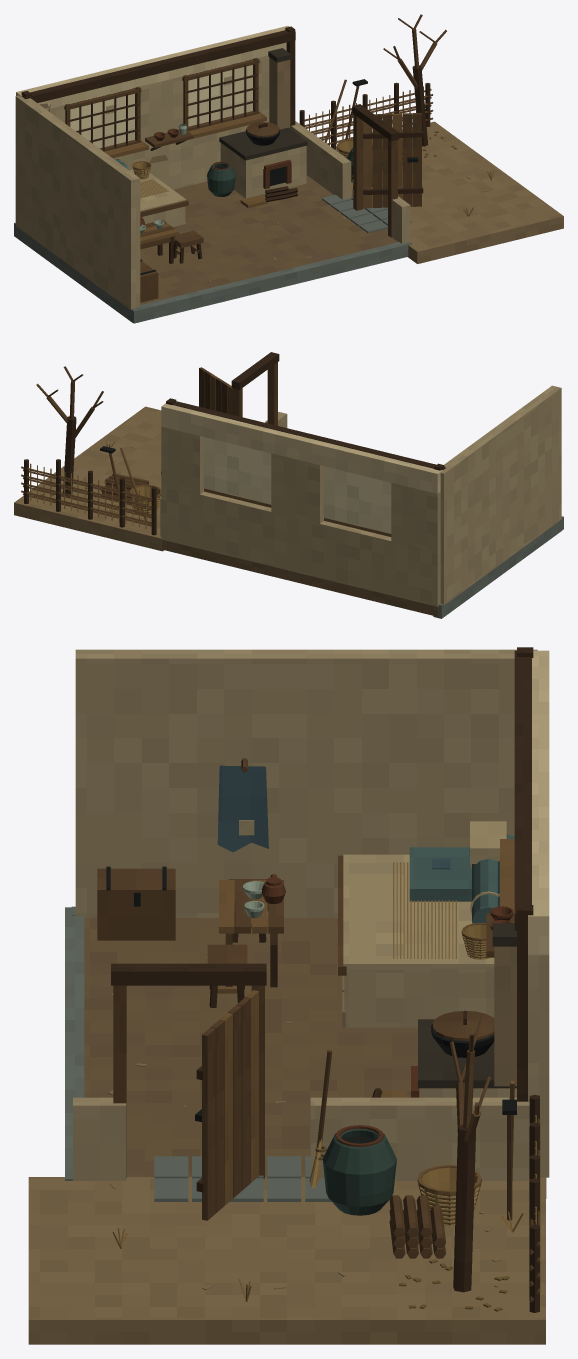
File: gouer-home.glb
3 views of the same model, one above another, from view 1: azimuth 30°, elevation 25°; view 2: azimuth 150°, elevation 25°; view 3: azimuth 270°, elevation 25° (orthographic). The views are drawn at different scales.
Parts seen in each view (by area): view 1: West_wall, Packed_earth_floor, Courtyard_ground, Front_foundation, Rear_tie_beam, Rear_wall_top, Rear_wall_sill, Paper_window.001, Earthen_stove, Rear_wall_pier.001, East_cutaway_rear, Paper_window (+24 smaller); view 2: West_wall, Rear_wall_sill, Courtyard_ground, Rear_wall_top, Paper_window.001, Paper_window, Rear_wall_pier.001, Rear_wall_pier, Packed_earth_floor, Rear_wall_pier.002, West_foundation, Rear_tie_beam (+3 smaller); view 3: West_wall, Courtyard_ground, Packed_earth_floor, East_cutaway_rear, Kang_top, Earth_kang, Rear_wall_top, Old_storage_chest, Storage_jar.001, Rear_tie_beam, East_cutaway_front, Front_foundation (+26 smaller).
Boxes of the visible parts, x1,y1,x2,y2 form: West_wall: [15, 95, 140, 309]; Packed_earth_floor: [140, 175, 397, 304]; Courtyard_ground: [335, 121, 563, 263]; Front_foundation: [129, 242, 412, 323]; Rear_tie_beam: [21, 30, 295, 102]; Rear_wall_top: [16, 26, 289, 109]; Rear_wall_sill: [113, 113, 269, 189]; Paper_window.001: [188, 65, 252, 126]; Earthen_stove: [220, 143, 306, 198]; Rear_wall_pier.001: [139, 76, 183, 142]; East_cutaway_rear: [291, 121, 351, 199]; Paper_window: [70, 93, 134, 148]; West_wall: [440, 385, 561, 605]; Rear_wall_sill: [161, 485, 440, 606]; Courtyard_ground: [14, 406, 164, 551]; Rear_wall_top: [161, 403, 442, 493]; Paper_window.001: [203, 437, 271, 504]; Paper_window: [323, 466, 391, 533]; Rear_wall_pier.001: [271, 453, 323, 523]; Rear_wall_pier: [391, 483, 440, 552]; Packed_earth_floor: [162, 539, 438, 616]; Rear_wall_pier.002: [161, 426, 203, 494]; West_foundation: [433, 517, 561, 618]; Rear_tie_beam: [172, 401, 445, 470]; West_wall: [75, 649, 537, 917]; Courtyard_ground: [28, 1177, 545, 1344]; Packed_earth_floor: [84, 918, 546, 1198]; East_cutaway_rear: [310, 1097, 529, 1180]; Kang_top: [343, 854, 494, 969]; Earth_kang: [344, 969, 494, 1027]; Rear_wall_top: [528, 650, 549, 955]; Old_storage_chest: [97, 868, 175, 940]; Storage_jar.001: [322, 1128, 396, 1215]; Rear_tie_beam: [514, 650, 531, 930]; East_cutaway_front: [73, 1097, 126, 1180]; Front_foundation: [65, 907, 84, 1180].
Size of the model in its own units: 10.06 by 3.32 by 5.39.
24 materials, 24 textured.
